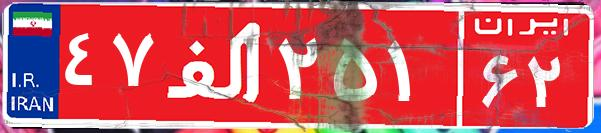1: (385, 28, 445, 110)
2: (273, 28, 330, 110), (525, 38, 570, 115)
4: (57, 26, 110, 107)
5: (330, 28, 385, 110)
6: (475, 38, 525, 113)
7: (110, 28, 158, 105)
الف: (158, 15, 273, 115)
